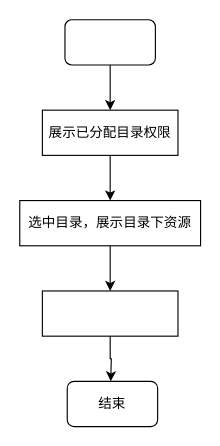
Image size: 220x446. Some labels were removed from this diagram. The centre of each missing label's shape, as x and y in pixels:
"勾选控制是否可见" goes at point (109, 313).
"开始" goes at point (109, 42).
